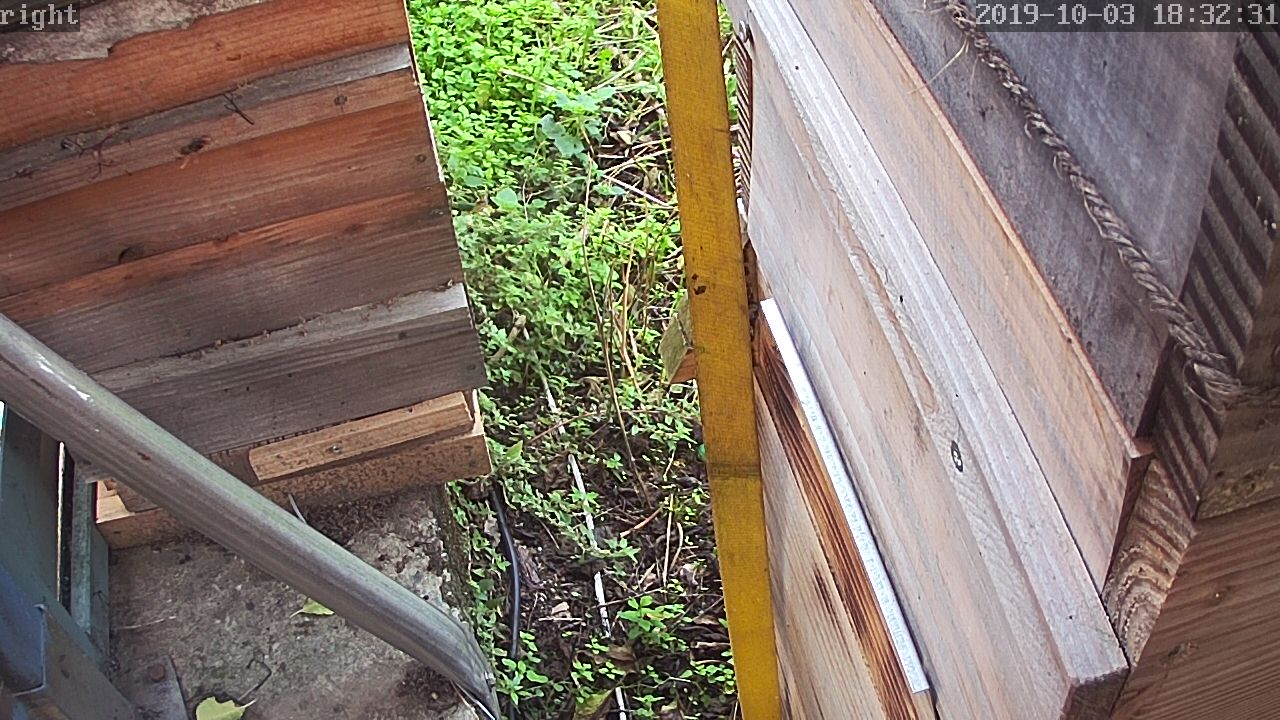hornet: (615, 131, 654, 178)
